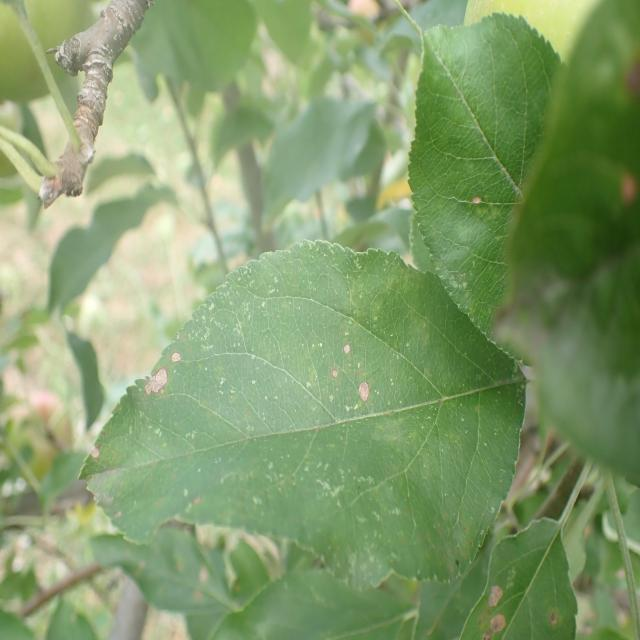frog-eye-leaf-spot: (78, 237, 528, 590), (441, 516, 578, 640)
